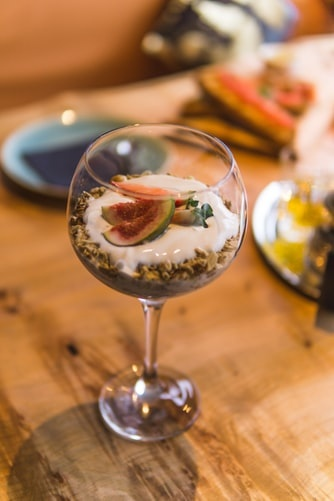whiskey: (69, 129, 246, 439)
